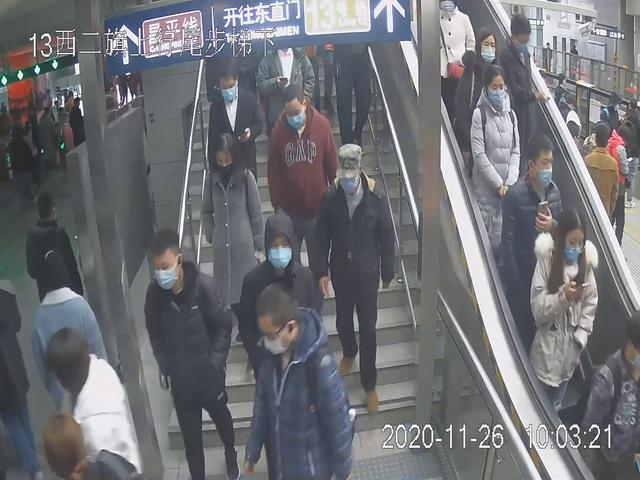person: (142, 227, 243, 480), (242, 278, 362, 480), (312, 141, 399, 416), (528, 205, 601, 442), (202, 127, 267, 363), (268, 84, 337, 295), (203, 52, 266, 233), (470, 63, 522, 274)
